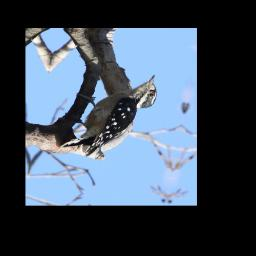Woodpecker: (58, 62, 162, 167)
